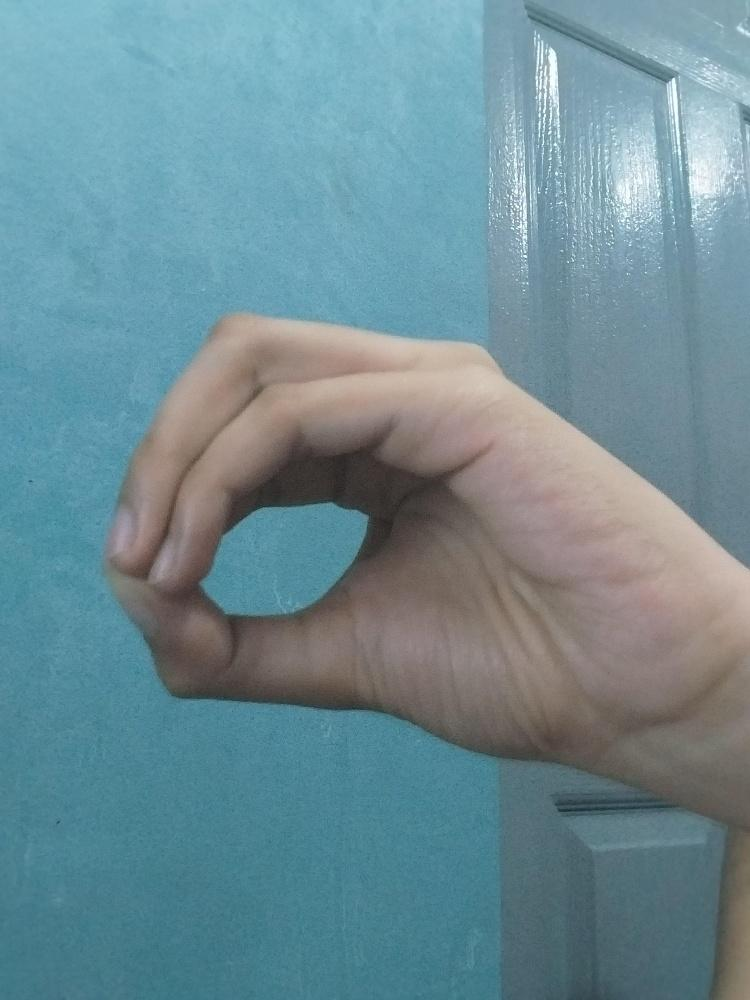o: (98, 308, 650, 757)
